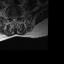CCS_severe_stenosis: (14, 17, 15, 22)
LFS_severe_stenosis: (17, 16, 18, 19)
LLS_normal: (15, 16, 17, 22)
RFS_severe_stenosis: (10, 16, 12, 20)
RLS_stenosis: (12, 17, 14, 22)
